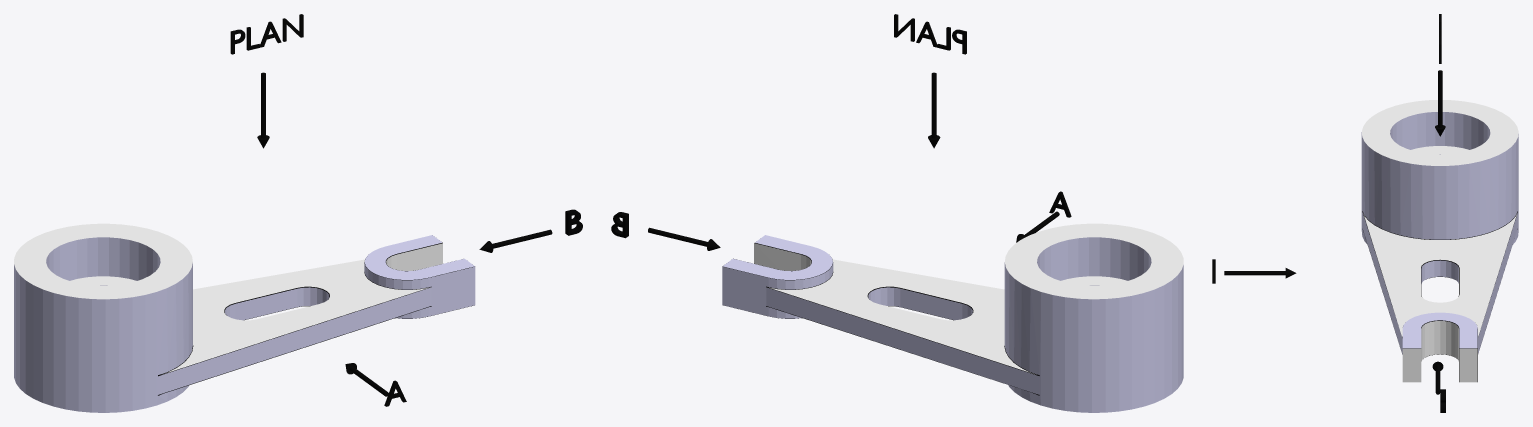
File: Q1b outline test.gltf
3 renders of one model, left to right at view 1: azimuth 30°, elevation 25°; view 2: azimuth 150°, elevation 25°; view 3: azimuth 270°, elevation 25°, orthographic. The views are drawn at different scales.
Parts seen in each view (by area): view 1: Q1b, Text; view 2: Q1b, Text; view 3: Q1b, Cone, Cone.001.
Boxes of the visible parts, x1,y1,x2,y2 form: Q1b: (14, 223, 475, 412); Text: (230, 14, 303, 54); Q1b: (722, 223, 1183, 412); Text: (894, 14, 966, 54); Q1b: (1361, 100, 1518, 382); Cone: (1224, 268, 1296, 278); Cone.001: (1435, 70, 1445, 136).
Bounding box in the file's own units: 17.96 × 9.61 × 9.76.
